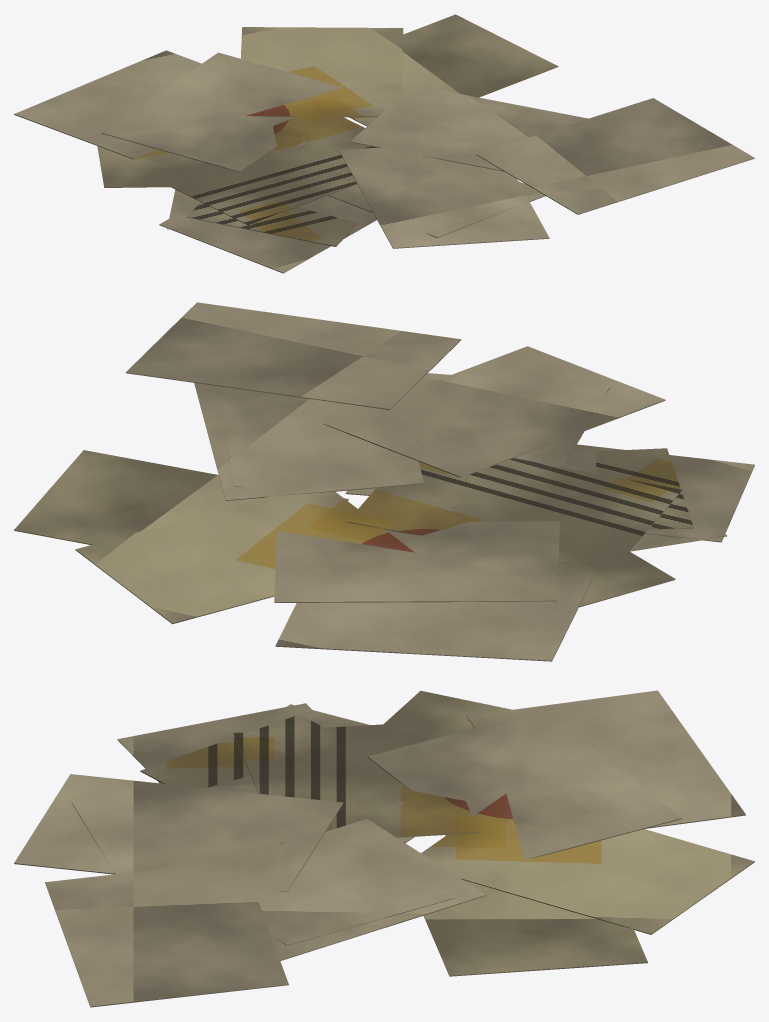
Rendered from D01_scattered_papers_v4.glb.
3 renders of one model, top to bottom at view 1: azimuth 30°, elevation 25°; view 2: azimuth 150°, elevation 25°; view 3: azimuth 270°, elevation 25°, orthographic. The views are drawn at different scales.
Visible parts, largest first — view 1: D01_scattered_papers_v4; view 2: D01_scattered_papers_v4; view 3: D01_scattered_papers_v4.
Part boxes in pixels (x1,y1,x2,y2): D01_scattered_papers_v4: (14, 14, 754, 273); D01_scattered_papers_v4: (14, 302, 754, 661); D01_scattered_papers_v4: (14, 690, 754, 1007).
Size of the model in its own units: 0.5 by 0.0225 by 0.496.
2 materials, 2 textured.
